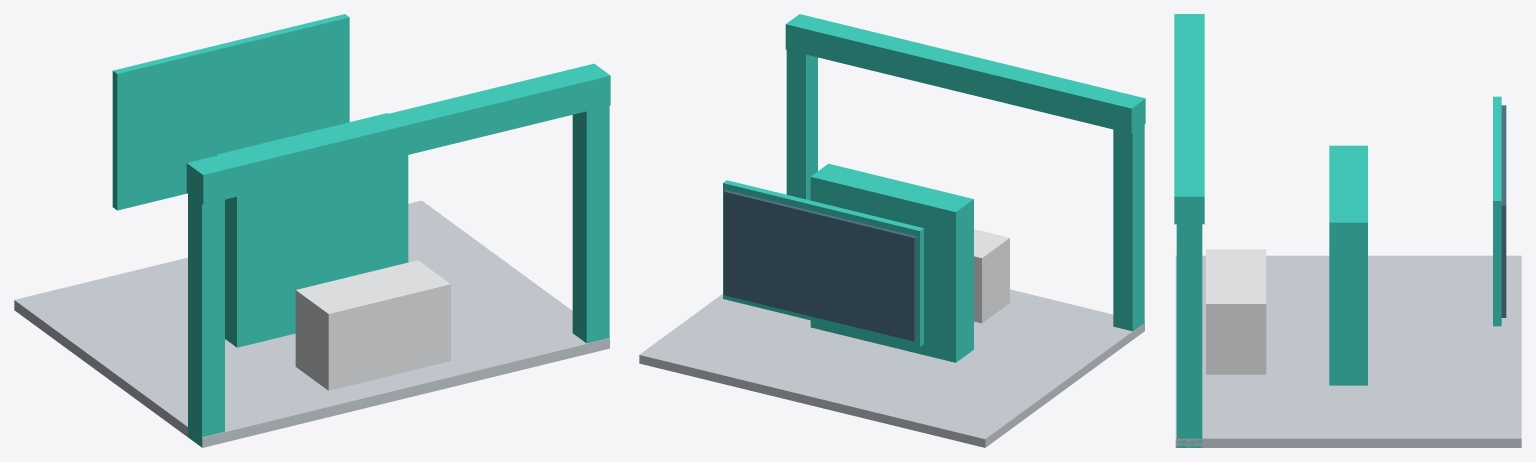
3 views of the same model, side by side, from view 1: azimuth 30°, elevation 25°; view 2: azimuth 150°, elevation 25°; view 3: azimuth 270°, elevation 25° (orthographic). The views are drawn at different scales.
Visible parts, largest first — view 1: Exhibition Booth Concept; view 2: Exhibition Booth Concept; view 3: Exhibition Booth Concept.
Boxes of the visible parts, box(x1,y1,x2,y2) form: Exhibition Booth Concept: box(14, 14, 610, 447); Exhibition Booth Concept: box(639, 14, 1145, 447); Exhibition Booth Concept: box(1174, 14, 1521, 447).
Size of the model in its own units: 5 by 3.2 by 4.02.
